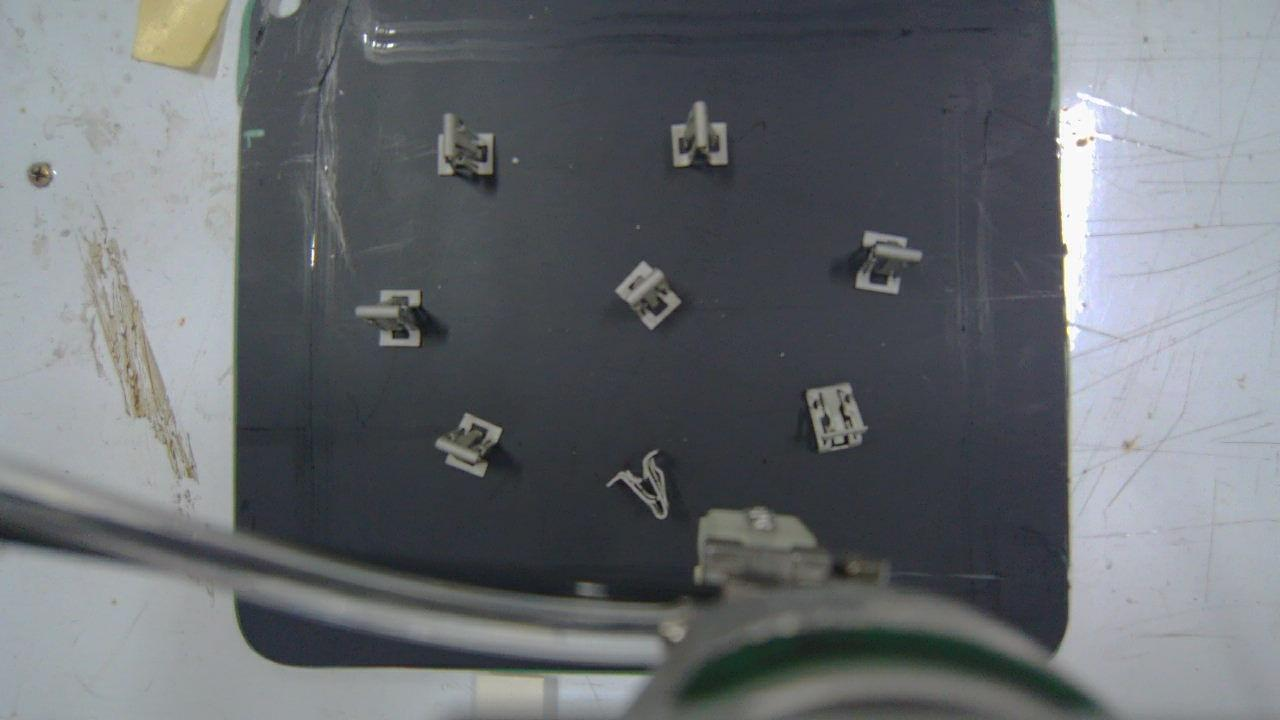ng: (605, 450, 667, 521), (434, 414, 501, 479), (857, 229, 922, 293), (807, 382, 866, 452), (437, 114, 494, 176)
pass: (617, 260, 681, 329), (671, 100, 732, 166), (355, 289, 420, 348)
